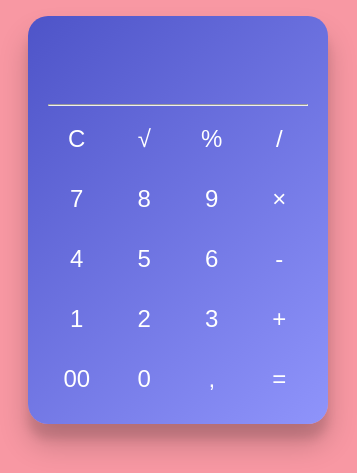
Calculator › handles backspace correctly
Step 1. Click the button "9" → click(212, 199), box top-left (183, 174), bottom-right (240, 224)
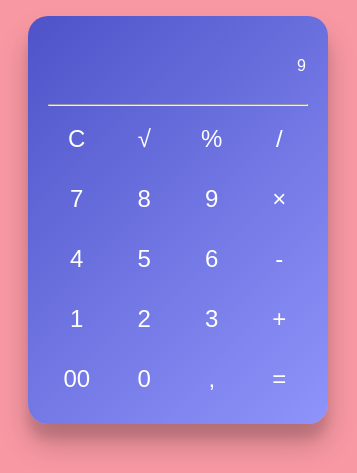
Step 2. Click the button "8" → click(144, 199), box top-left (116, 174), bottom-right (173, 224)
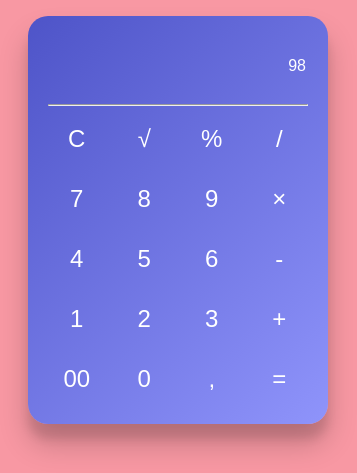
Step 3. Click the button "7" → click(77, 199), box top-left (48, 174), bottom-right (106, 224)
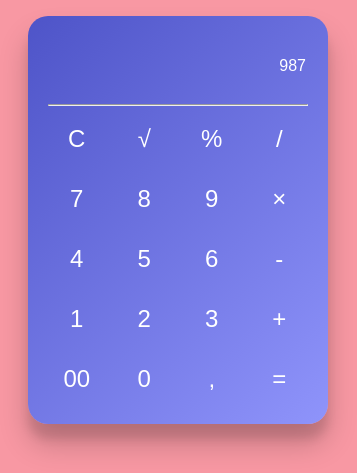
Step 4. Press Backspace
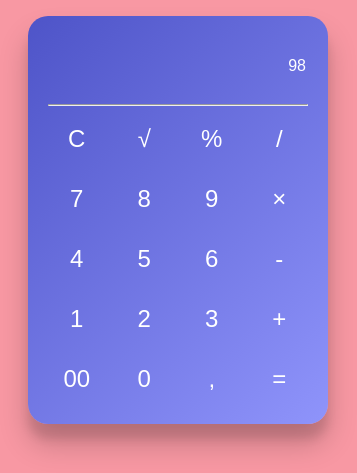
Now the field holds "98", box top-left (48, 56), bottom-right (308, 76)
